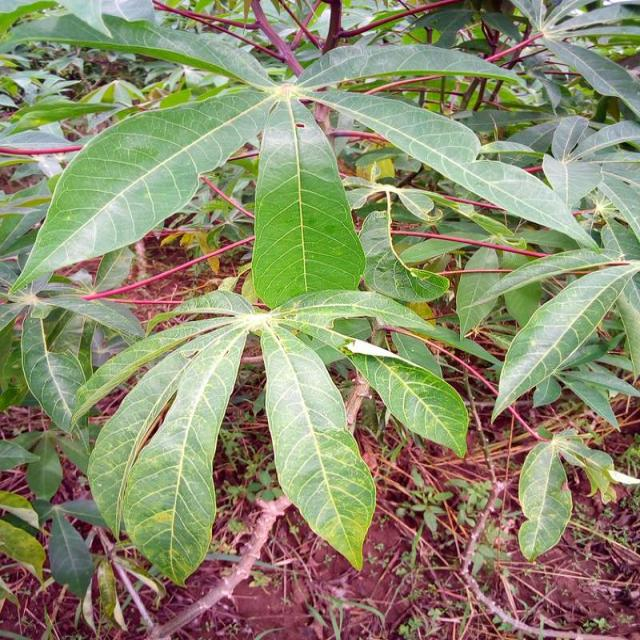cassava leaf: (120, 316, 250, 586), (259, 322, 376, 572), (250, 93, 366, 310)
